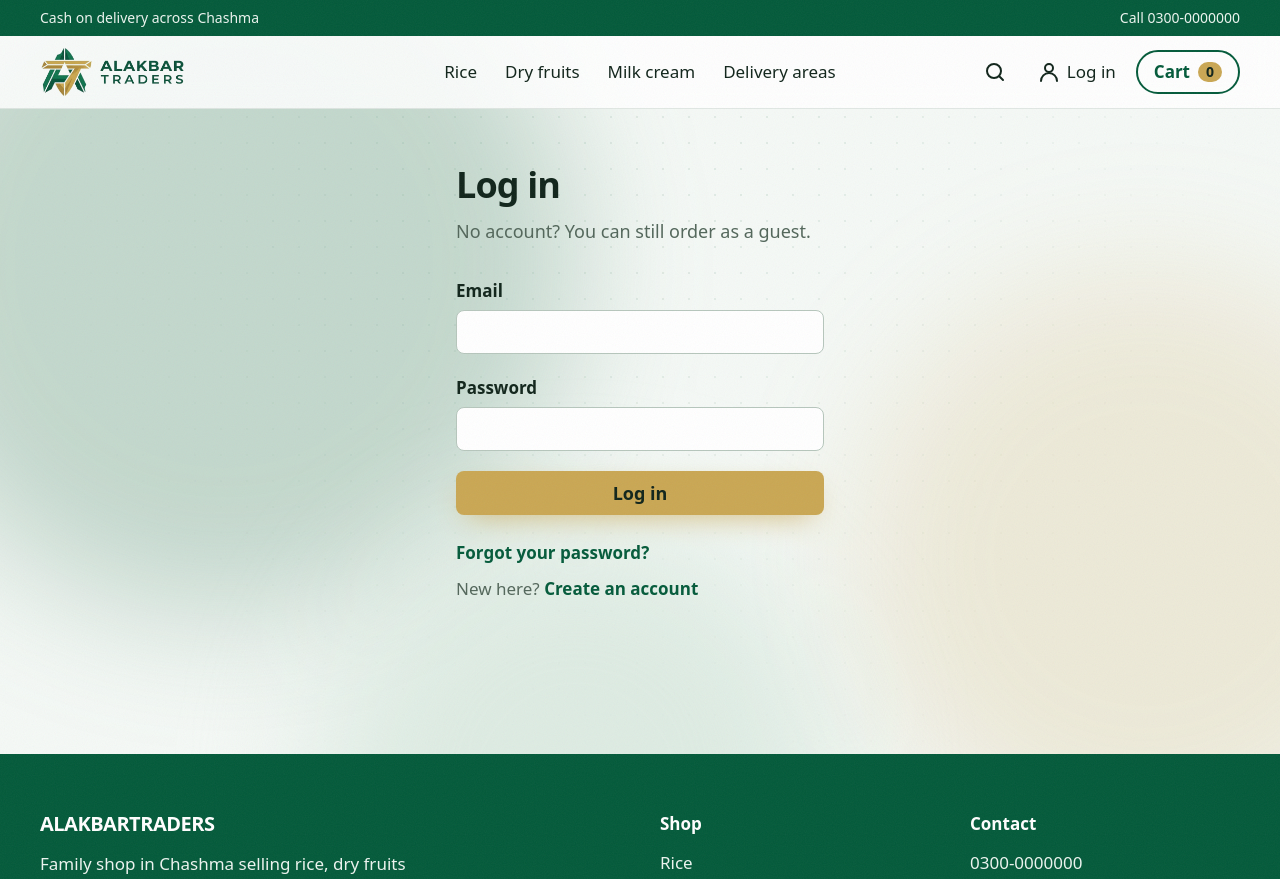
Scenario: login page › shows a connection error when the server cannot be reached
Type "ali@example.com" into the field labelled "Email".
click(640, 332); type("ali@example.com")  # box x1=456 y1=310 x2=824 y2=354
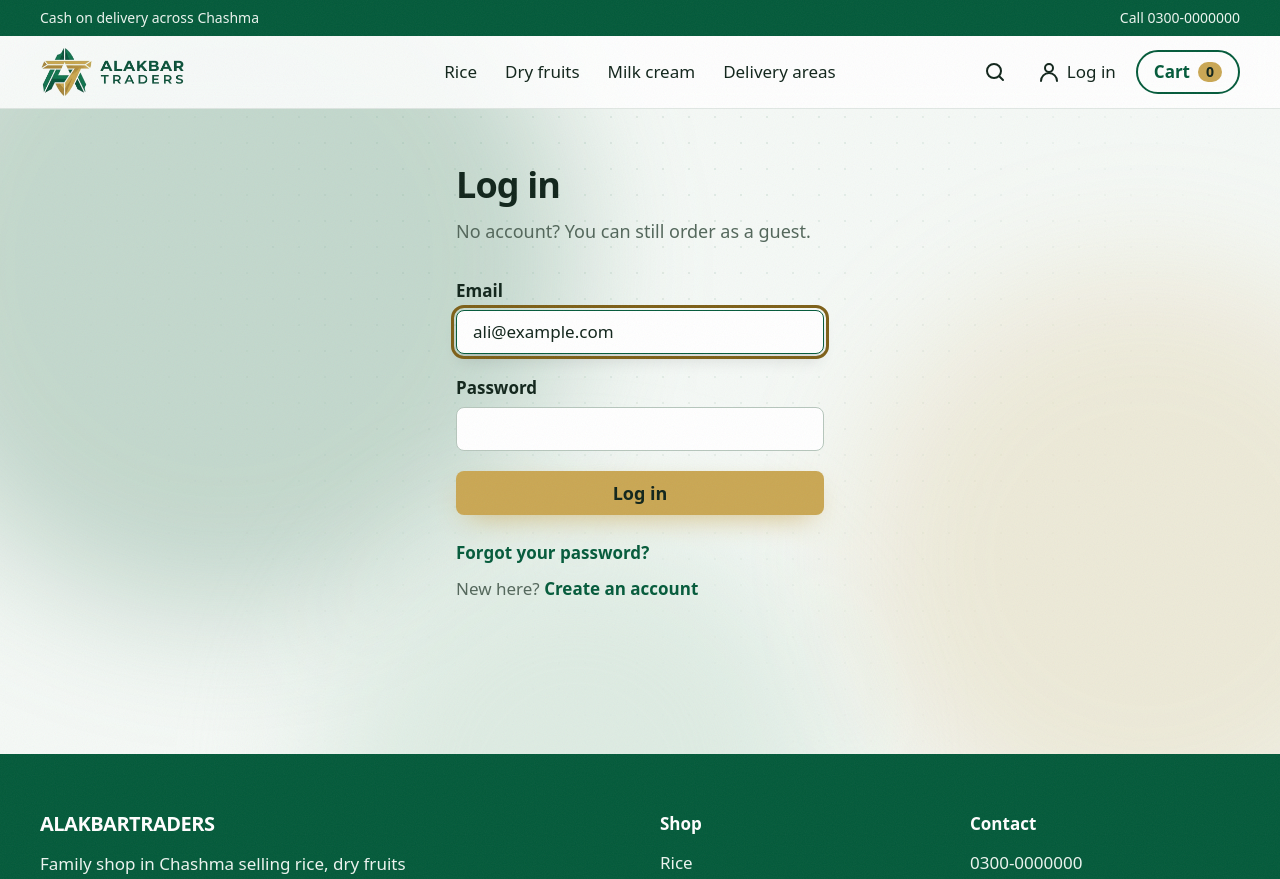
Type "whatever" into the password field labelled "Password".
click(640, 429); type("whatever")  # box x1=456 y1=407 x2=824 y2=451
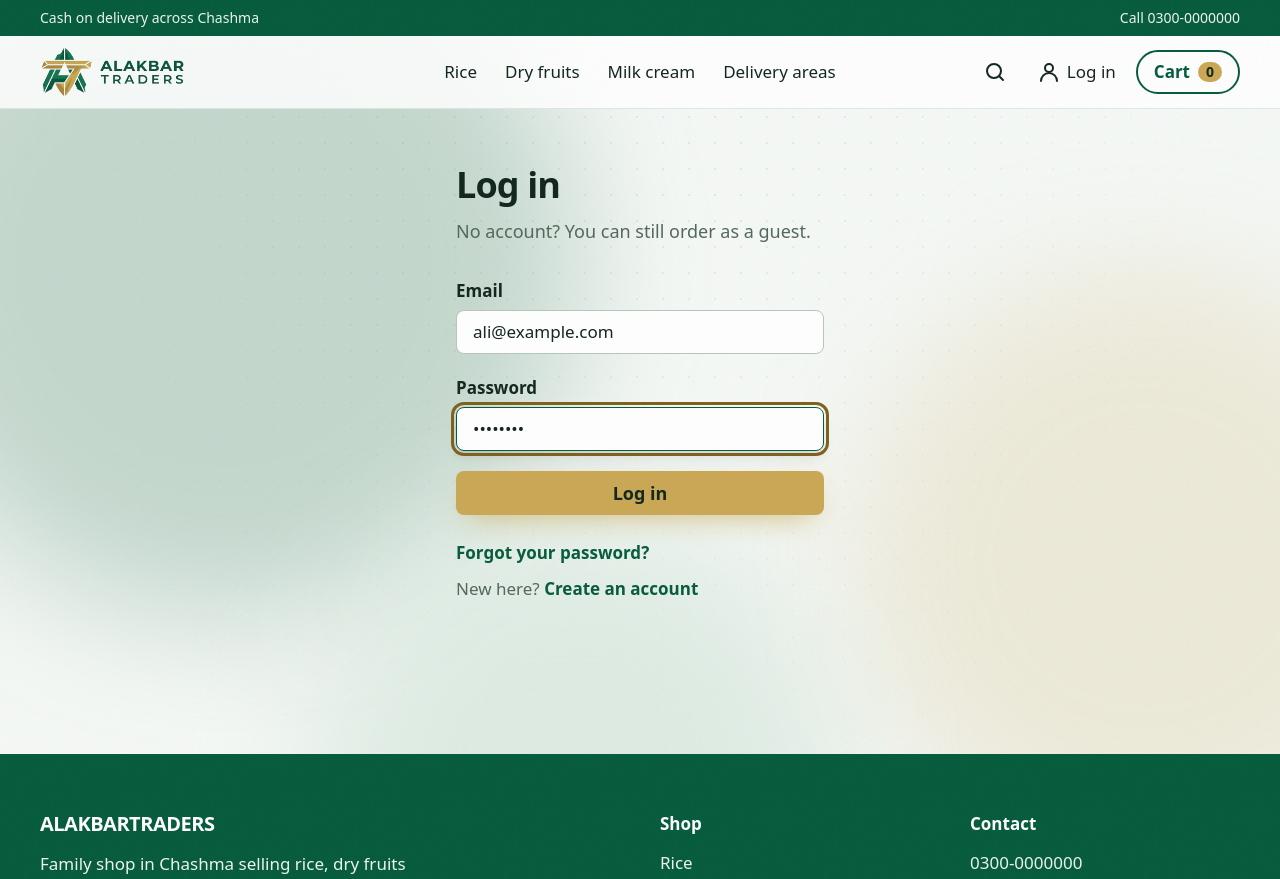
Click the button "Log in".
click(640, 493)  # box x1=456 y1=471 x2=824 y2=515
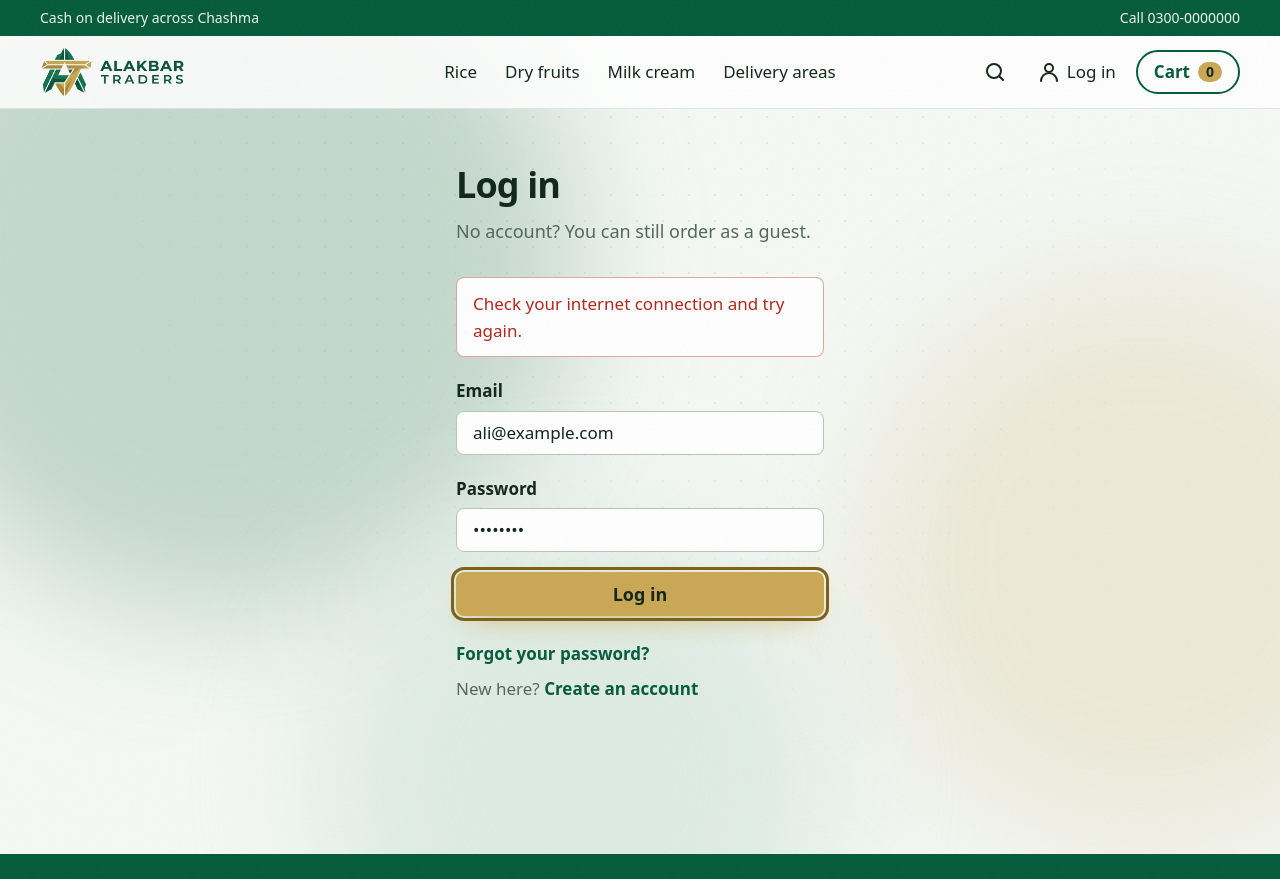
Expected: the message shows "internet connection", x1=473 y1=292 x2=784 y2=342
